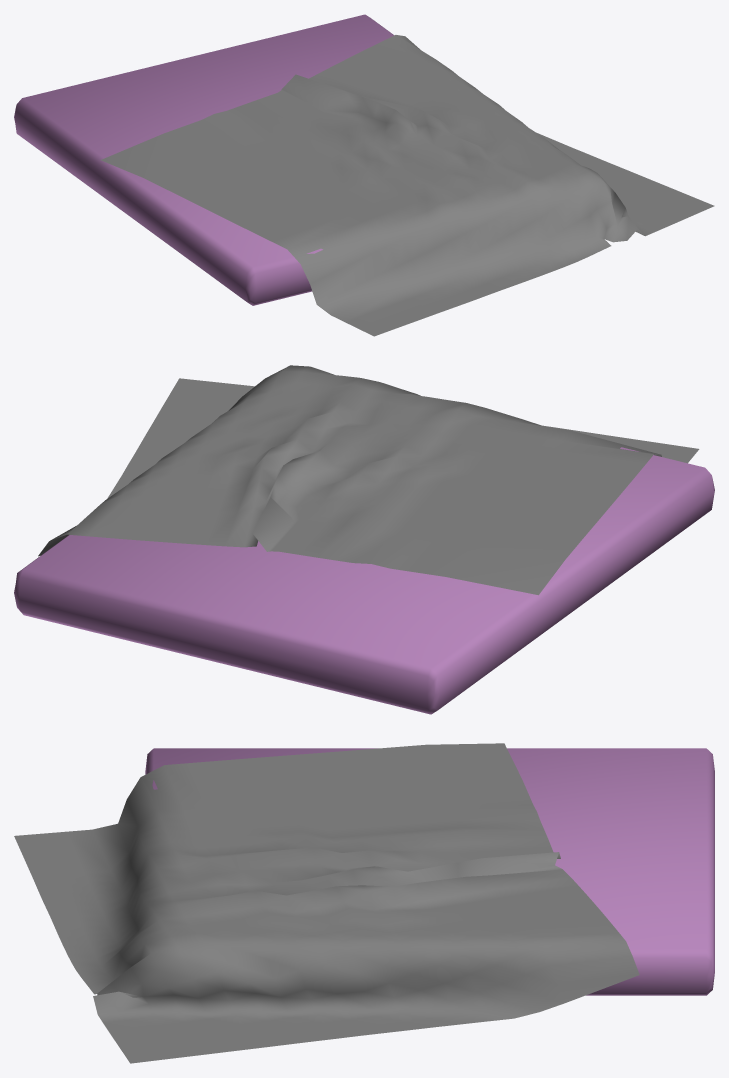
Rendered from Matela02.fbx.
3 views of the same model, one above another, from view 1: azimuth 30°, elevation 25°; view 2: azimuth 150°, elevation 25°; view 3: azimuth 270°, elevation 25° (orthographic). The views are drawn at different scales.
Visible parts, largest first — view 1: Matela02; view 2: Matela02; view 3: Matela02.
Part boxes in pixels (<box>): Matela02: <box>14,14,714,336</box>; Matela02: <box>14,365,714,714</box>; Matela02: <box>14,743,714,1063</box>.
Size of the model in its own units: 215 by 27.78 by 236.
